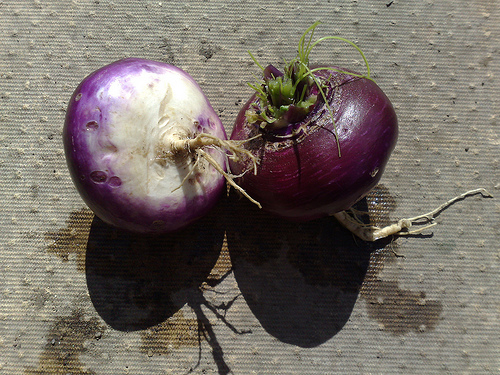turnip: (228, 19, 495, 257), (58, 55, 269, 238)
